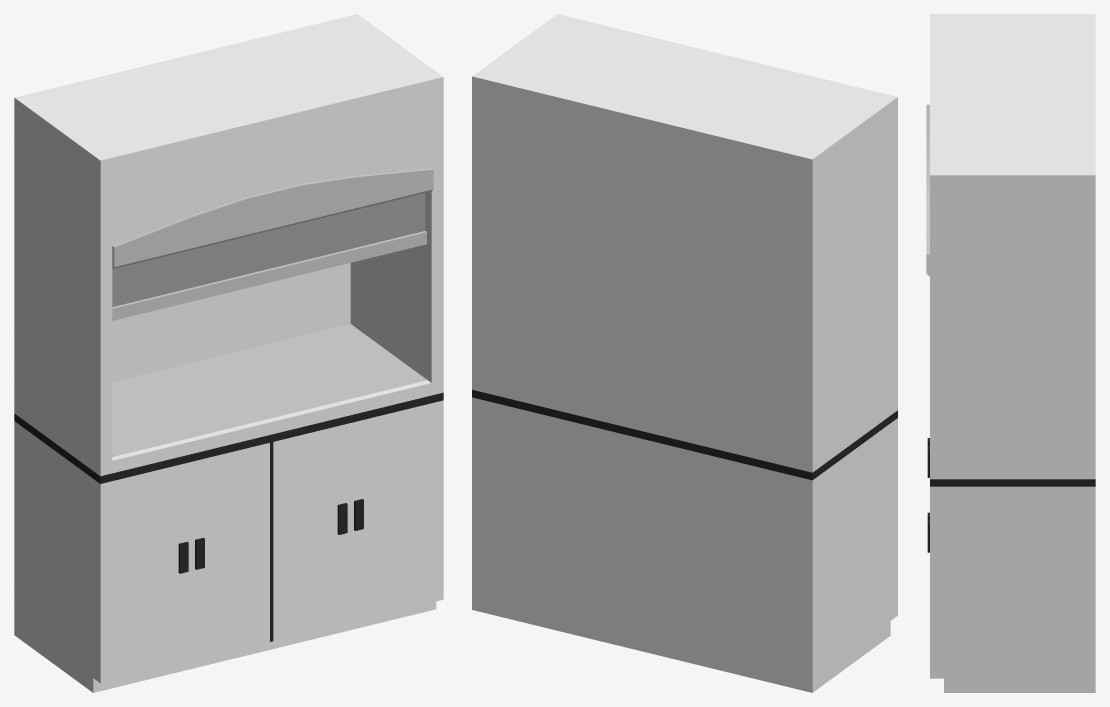
Rendered from FumeHood_01.fbx.
3 views of the same model, side by side, from view 1: azimuth 30°, elevation 25°; view 2: azimuth 150°, elevation 25°; view 3: azimuth 270°, elevation 25° (orthographic). The views are drawn at different scales.
Parts seen in each view (by area): view 1: FumeHood_01; view 2: FumeHood_01; view 3: FumeHood_01.
Boxes of the visible parts, bbox=[...] form: FumeHood_01: bbox=[14, 14, 443, 692]; FumeHood_01: bbox=[472, 14, 897, 692]; FumeHood_01: bbox=[926, 14, 1095, 692].
Size of the model in its own units: 100 by 150 by 44.49.
